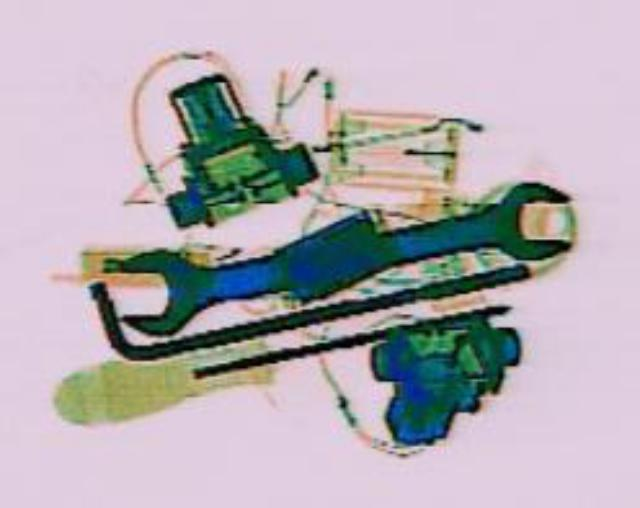Wrench: (97, 168, 588, 336)
